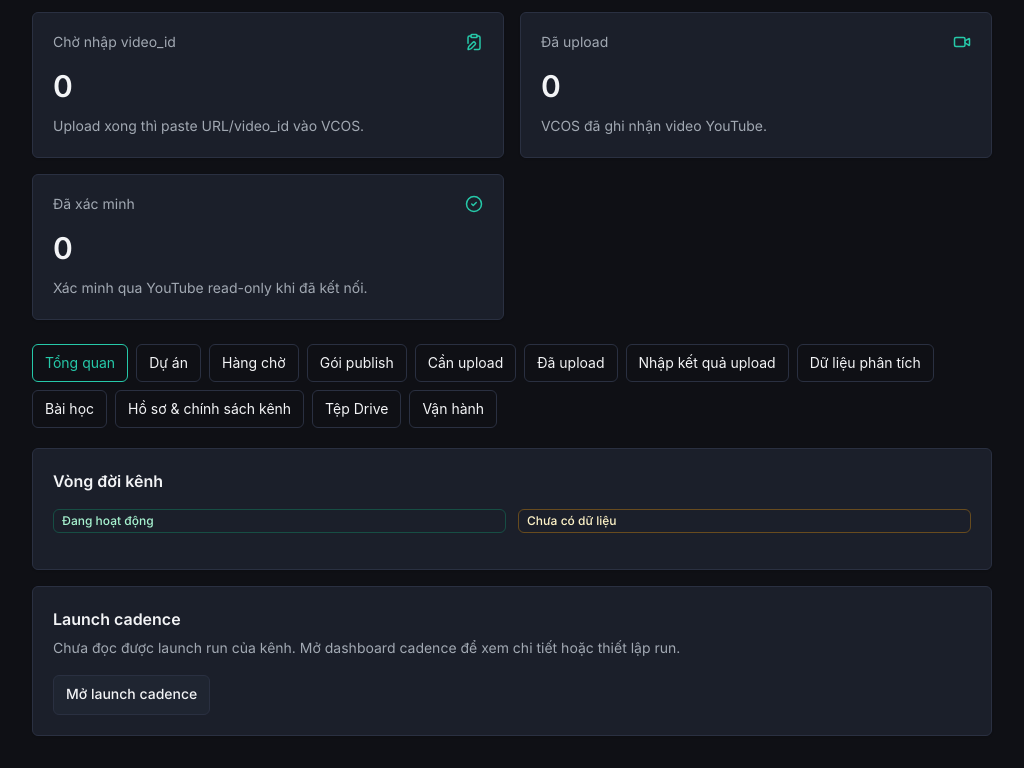
Scenario: ChannelWorkspaceView - Activation CTA › shows active v3 market, locale, visual profile and truthful destination status
(page scrolled)
Step 1. Click the tab "Hồ sơ & chính sách kênh" → (210,409), box [115, 390, 304, 428]
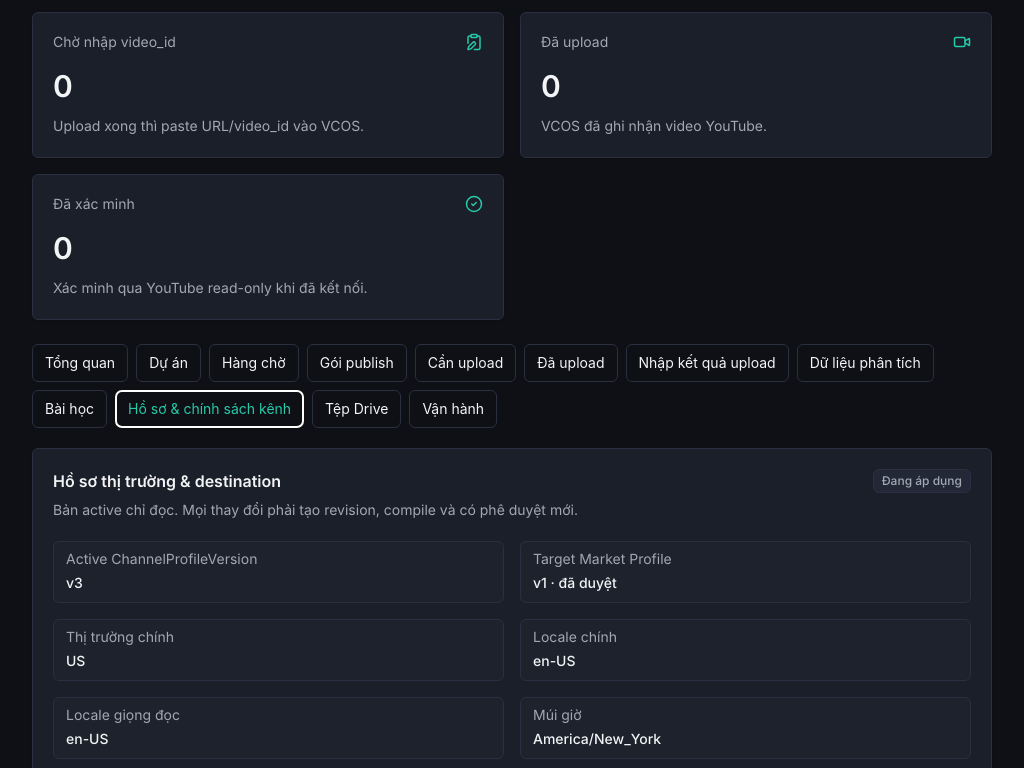
Check: the heading "Hồ sơ thị trường & destination" is shown, box [53, 471, 281, 491]
Check: the text "v3" is shown, box [66, 575, 83, 592]
Check: the text "v1 · đã duyệt" is shown, box [533, 575, 617, 592]
